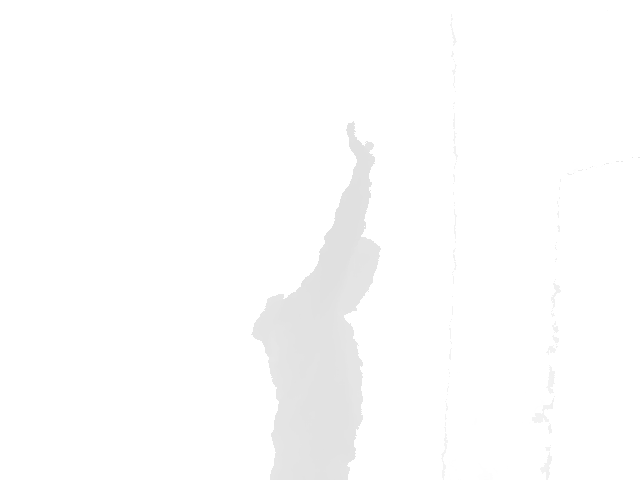hand: (344, 121, 376, 172)
head: (333, 237, 380, 316)
person: (251, 121, 383, 480)
